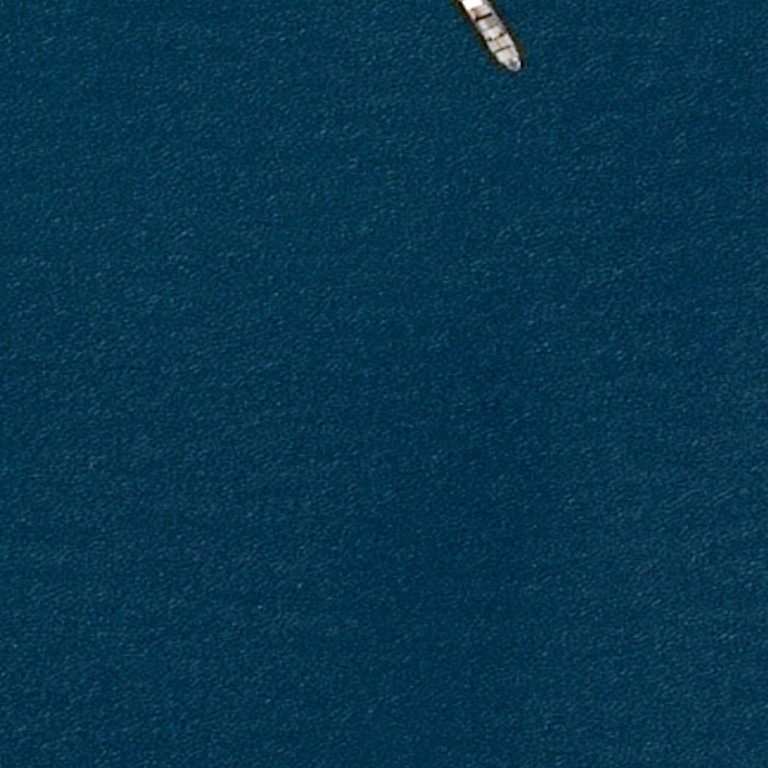ship: (459, 0, 521, 71)
